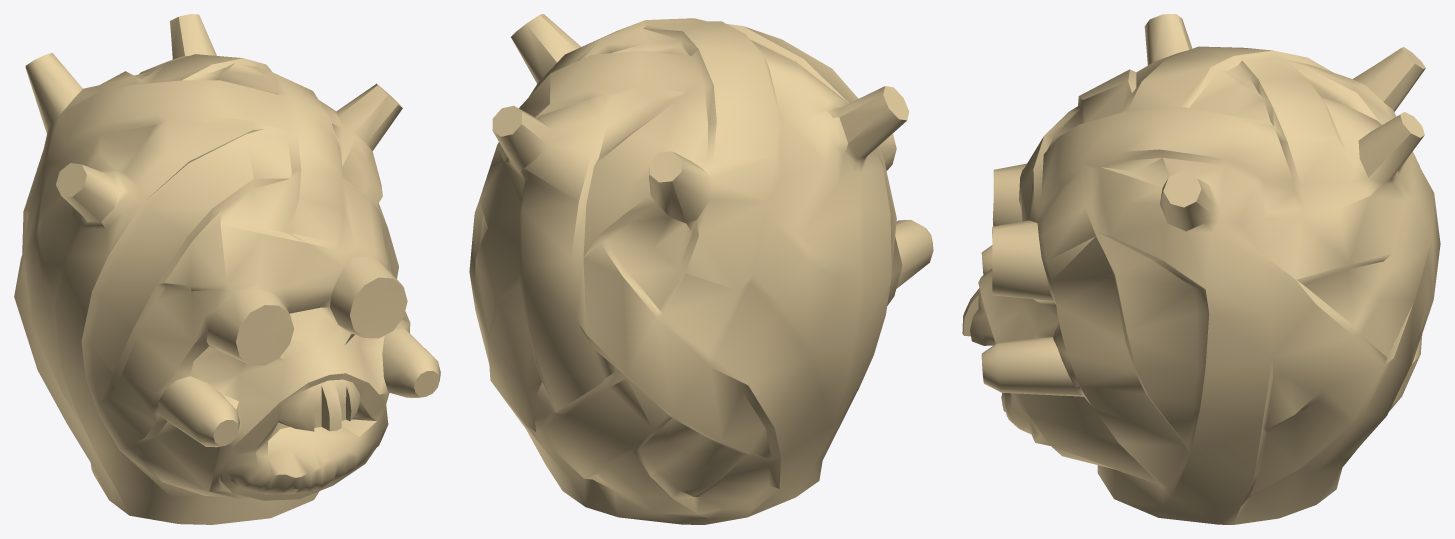
Rendered from Tusken Raider.dae.
The picture shows the model from 3 angles, left to right: view 1: azimuth 30°, elevation 25°; view 2: azimuth 150°, elevation 25°; view 3: azimuth 270°, elevation 25°; orthographic projection. The views are drawn at different scales.
Size of the model in its own units: 31.71 by 36.57 by 34.48.
